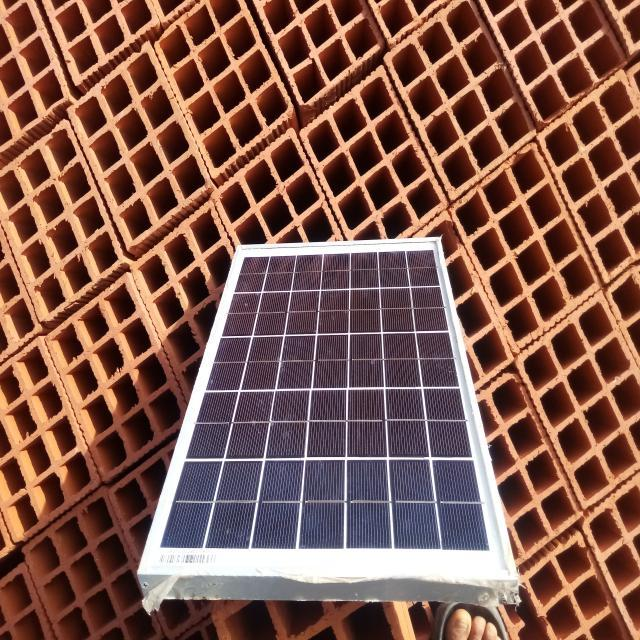no faulty: (142, 239, 515, 575)
